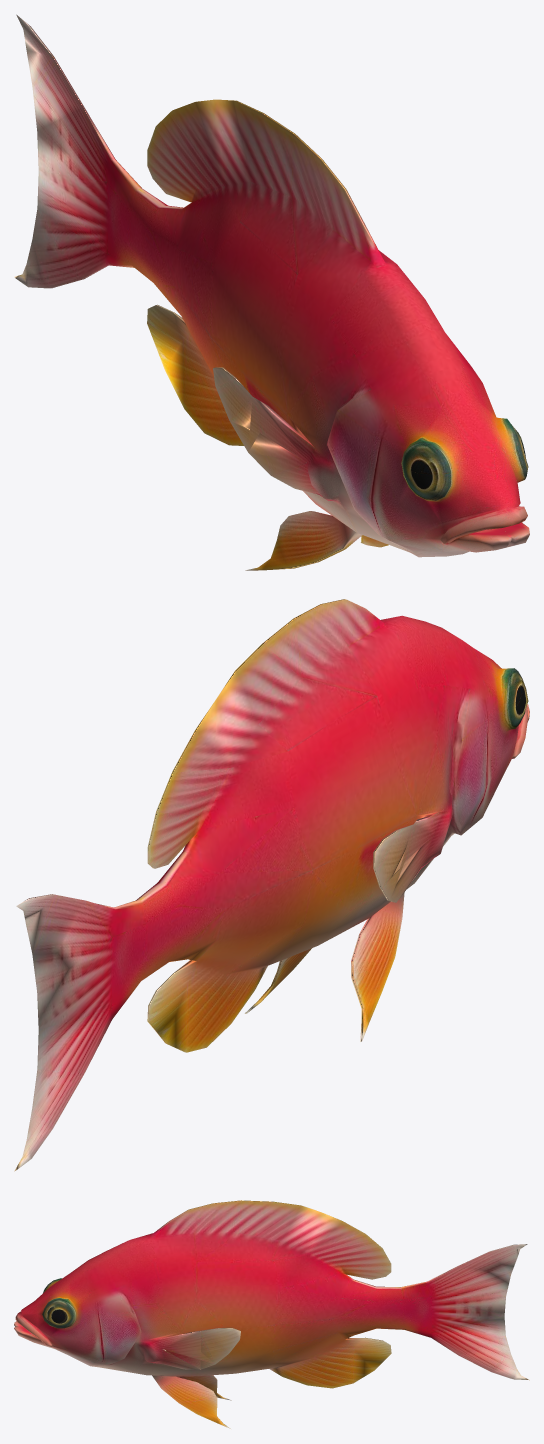
Rendered from anthias.glb.
3 renders of one model, top to bottom at view 1: azimuth 30°, elevation 25°; view 2: azimuth 150°, elevation 25°; view 3: azimuth 270°, elevation 25°, orthographic. The views are drawn at different scales.
Bounding box in the file's own units: 0.1821 × 0.4404 × 0.9609.
1 material, 1 textured.
